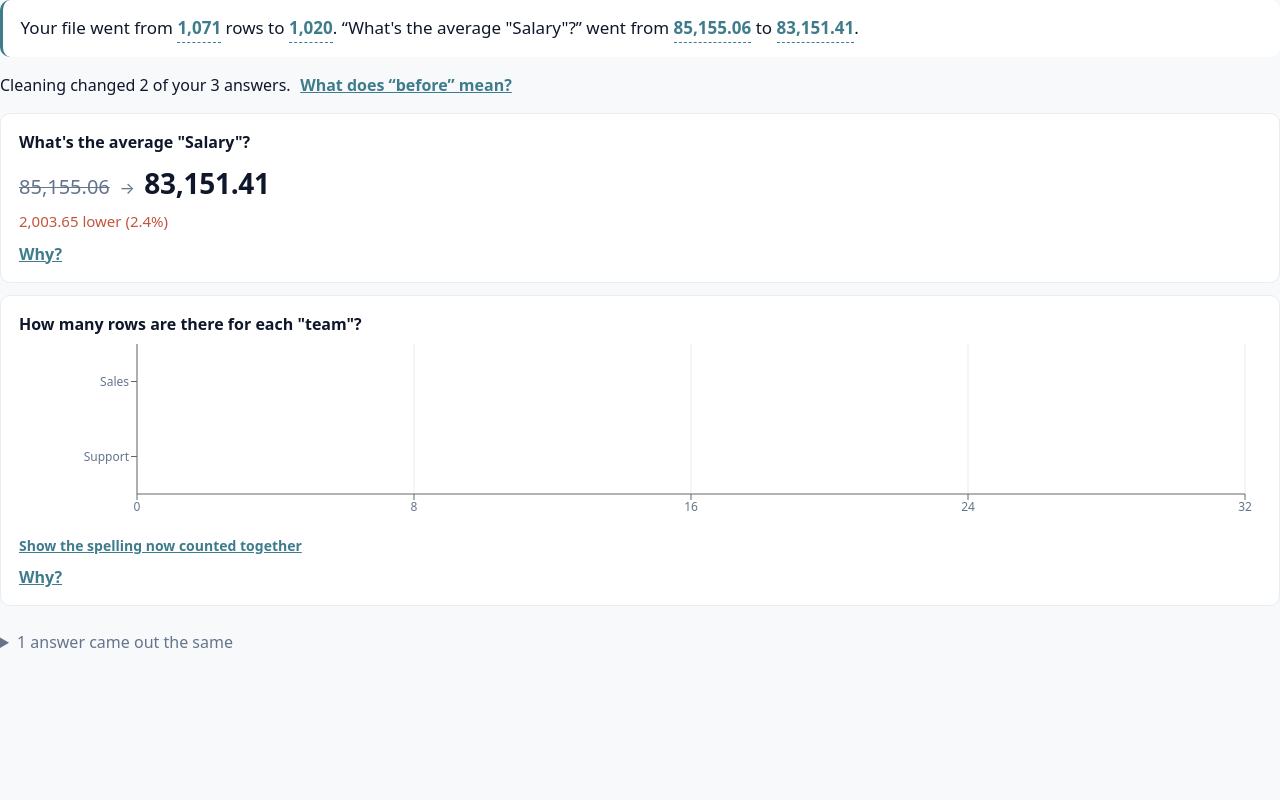
Test case: ComparePage › opens the rows a step changed, on request
Expected: the heading "What's the average \"Salary\"?" is shown, [19,131,250,153]
Click the button "Why?" below "2,003.65 lower (2.4%)" at {"x": 40, "y": 254}, box [19,242,62,266]
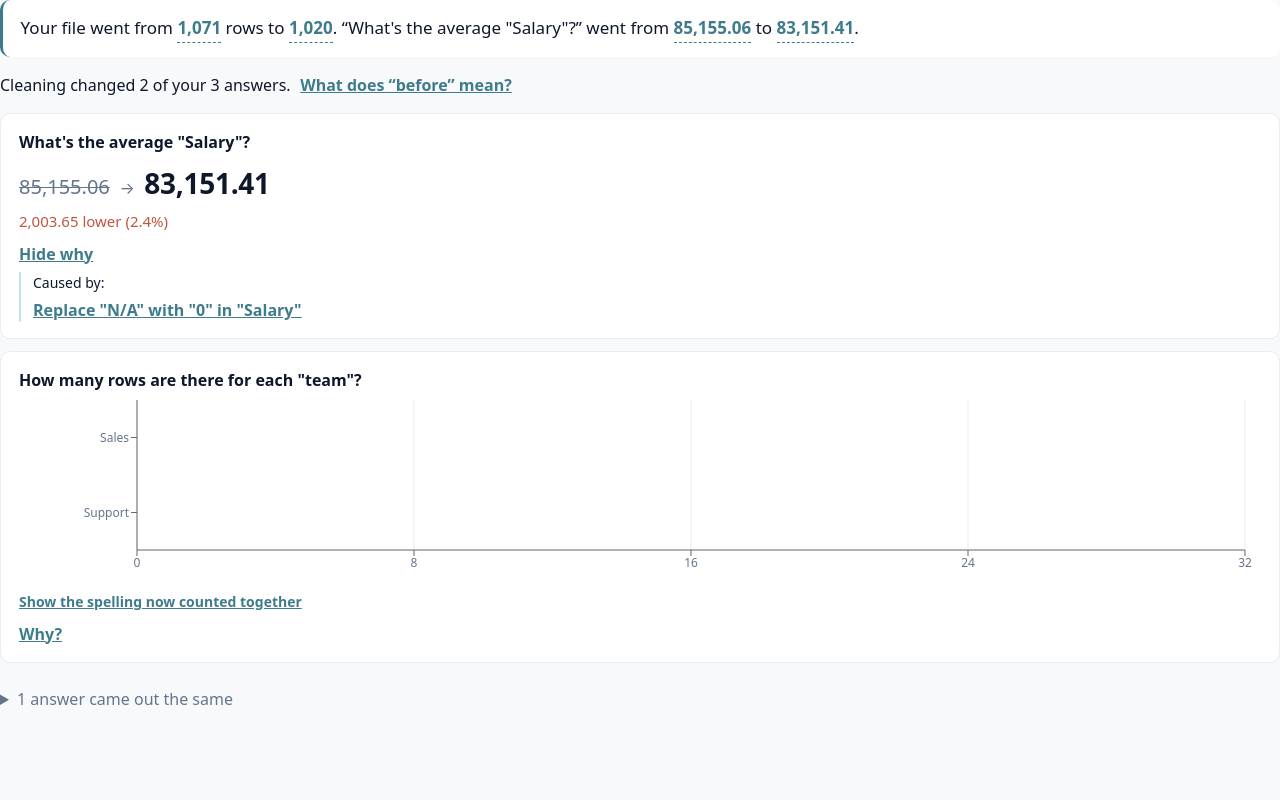
Click the button "Replace \"N/A\" with \"0\" in \"Salary\"" at {"x": 167, "y": 310}, box [33,298,302,322]
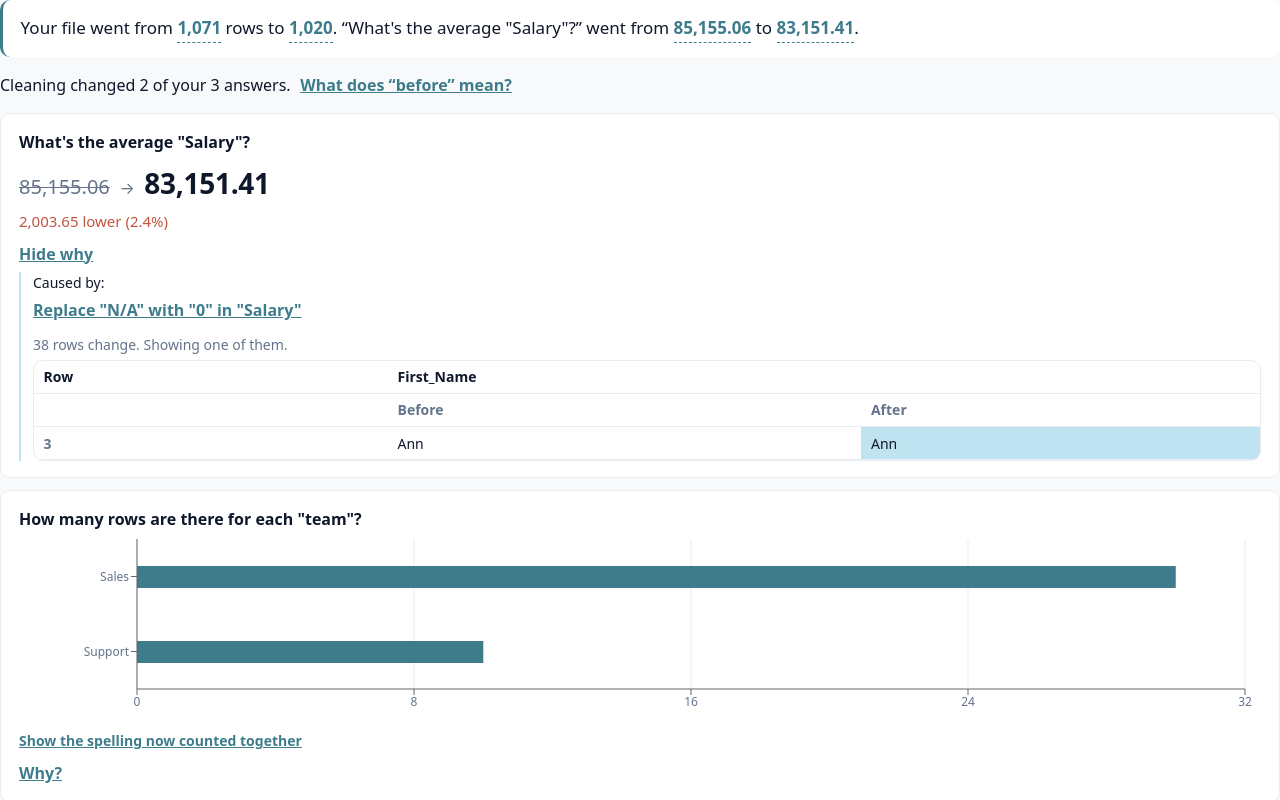
Now the text "38 rows change. Showing one of them." is shown, box [33,335,288,354]
